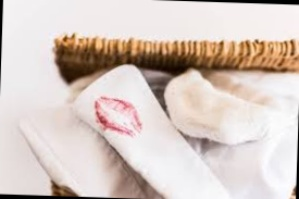lipstick: (92, 95, 141, 137)
